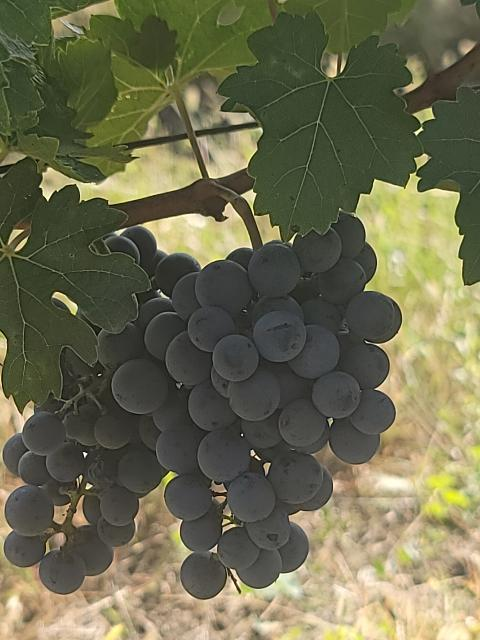grapes: (112, 214, 401, 598), (2, 226, 200, 592)
